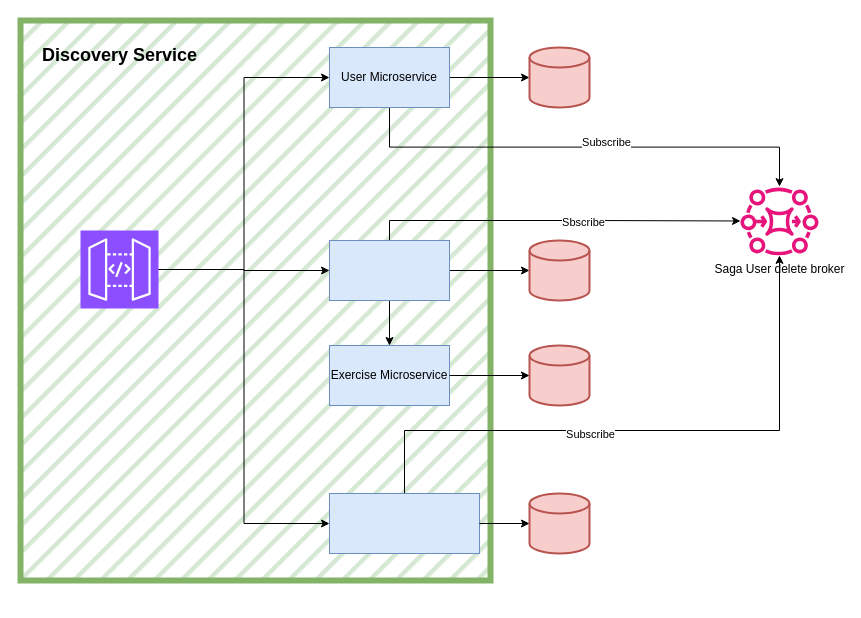
Some shapes in this 861 by 618 pixel diagram are drawn without their labels. The shapes that lost their labels are listed below. From the top down, each one's box as (x1, y1, x2, y2) in pixels, then its label:
(328, 240, 450, 300): Routine Microservice
(328, 492, 480, 554): Measurement Microservice
